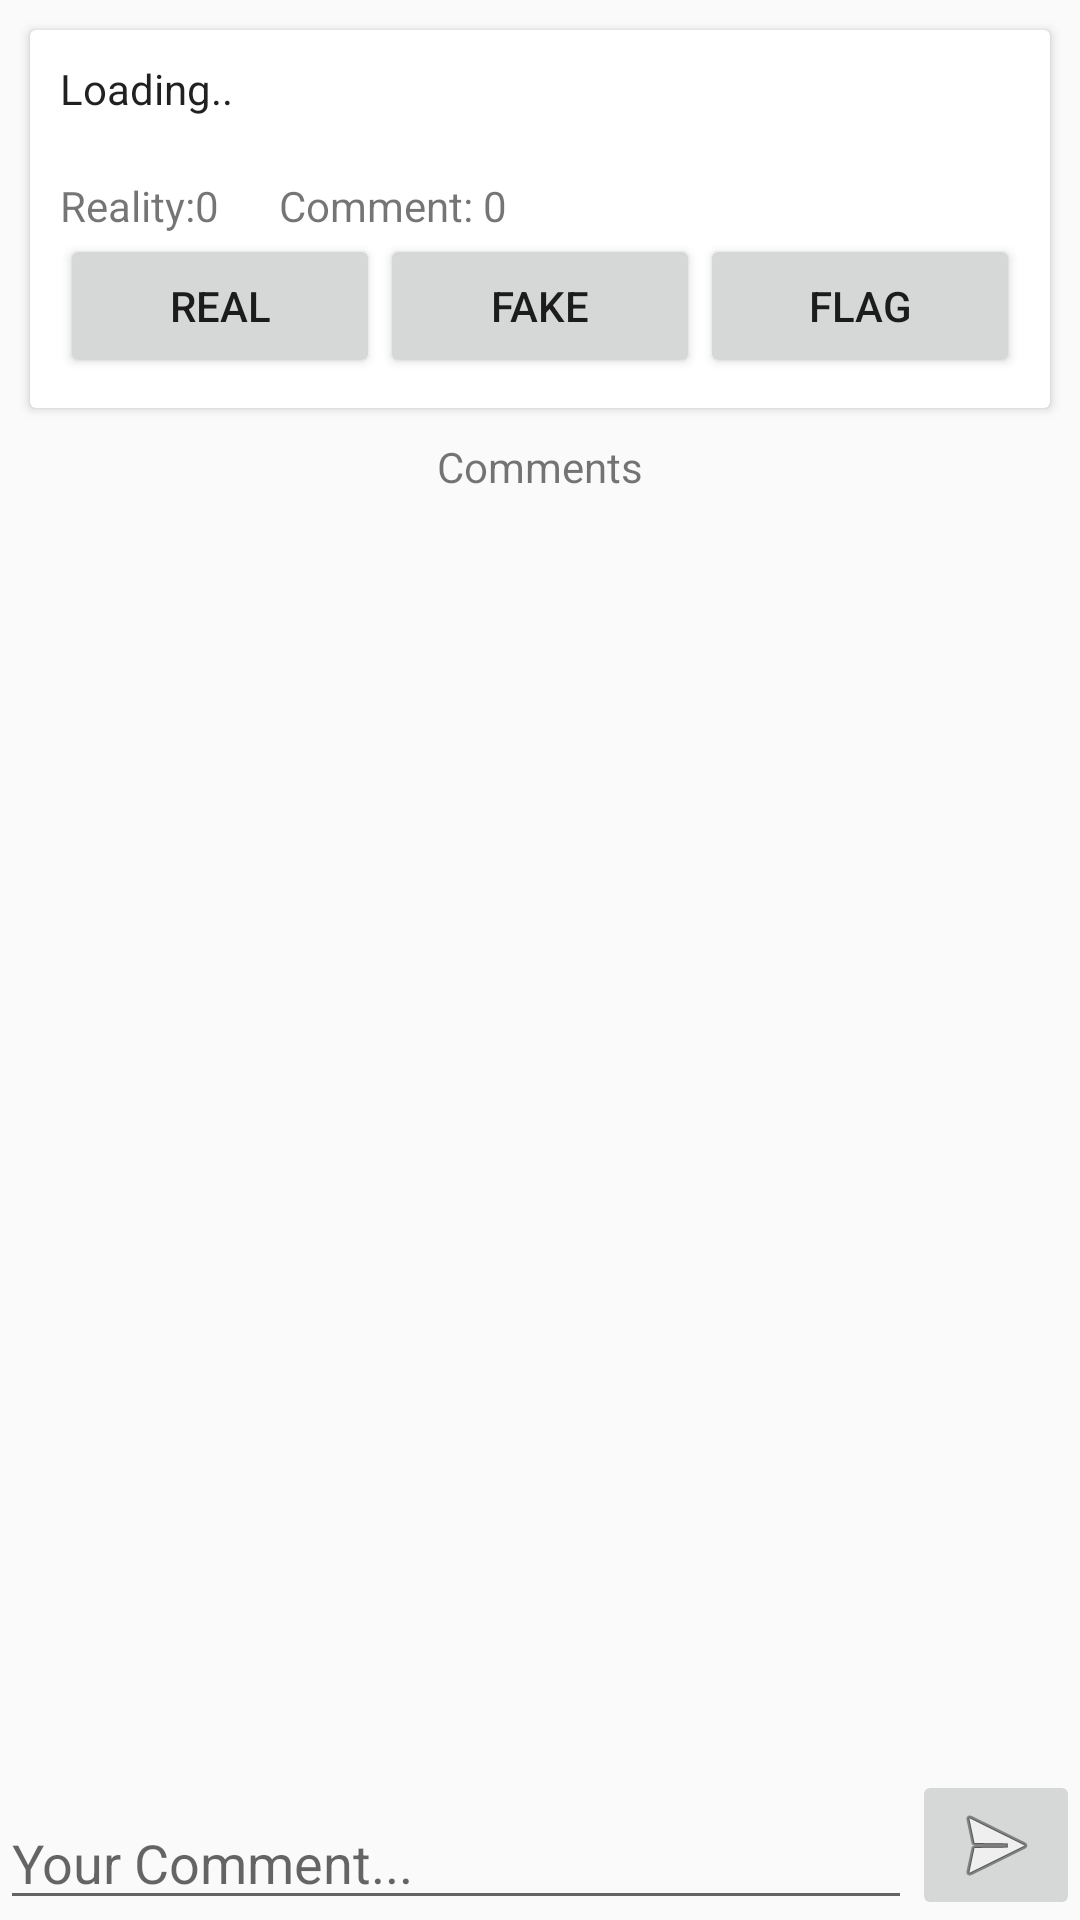

Screen size 1080×1920. Icon name, then its box in pixels as Rect(x1, y1, x2, y2):
send: Rect(924, 1788, 1068, 1902)
